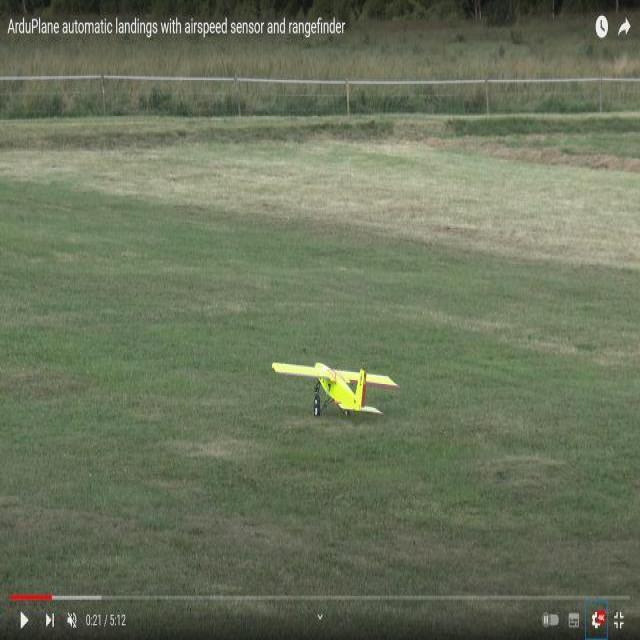UAV: (266, 328, 432, 456)
